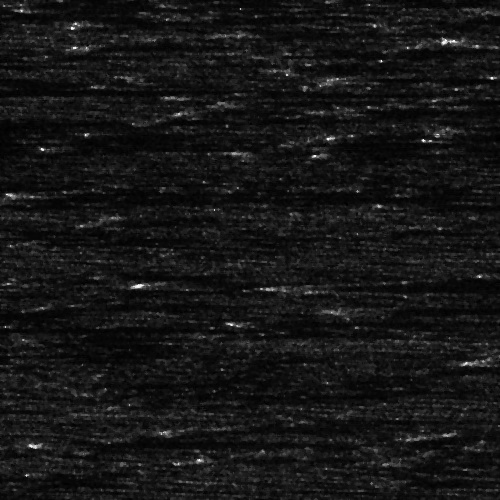object: (0, 179, 75, 200), (221, 279, 346, 290), (48, 38, 173, 47), (91, 116, 216, 125), (302, 303, 407, 312), (112, 278, 217, 287), (436, 440, 499, 451), (442, 355, 500, 366), (409, 429, 462, 438), (322, 107, 375, 114), (242, 316, 283, 325), (0, 187, 16, 208), (355, 457, 418, 462), (30, 438, 61, 447), (0, 493, 32, 500), (187, 457, 218, 460)
shadow: (28, 179, 457, 200), (0, 187, 393, 208), (0, 72, 205, 89), (0, 12, 315, 21), (284, 279, 500, 290), (263, 316, 500, 325), (0, 493, 283, 500), (46, 438, 257, 447), (0, 139, 81, 160), (154, 116, 300, 125), (355, 303, 500, 312), (0, 86, 157, 93), (349, 107, 500, 114), (0, 322, 201, 327), (111, 38, 187, 47), (164, 278, 238, 287), (436, 429, 500, 438), (387, 457, 500, 462), (203, 457, 350, 460), (0, 54, 73, 59), (468, 440, 500, 451), (0, 404, 59, 409), (0, 61, 27, 68), (0, 363, 30, 368)
